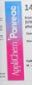ApplichemPanreac: (9, 5, 21, 77)
